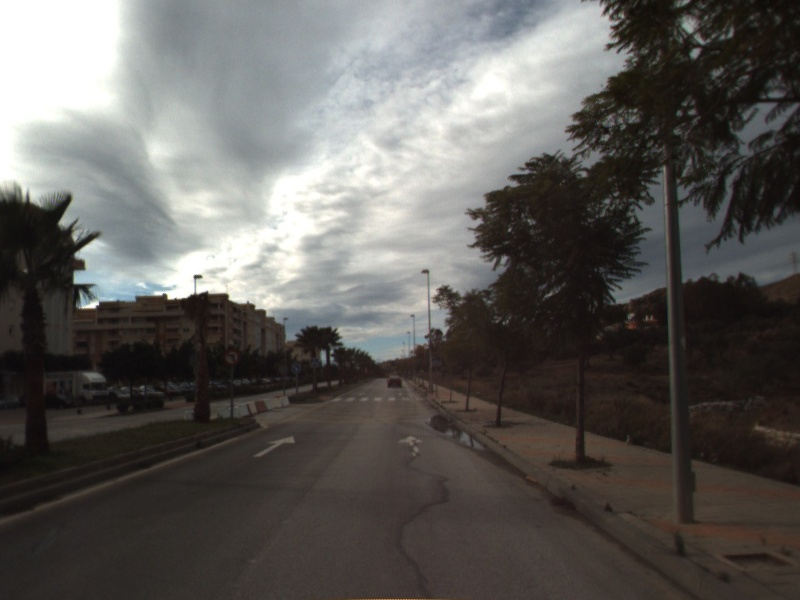STRAIGHT: (251, 434, 297, 459), (396, 433, 426, 459)
